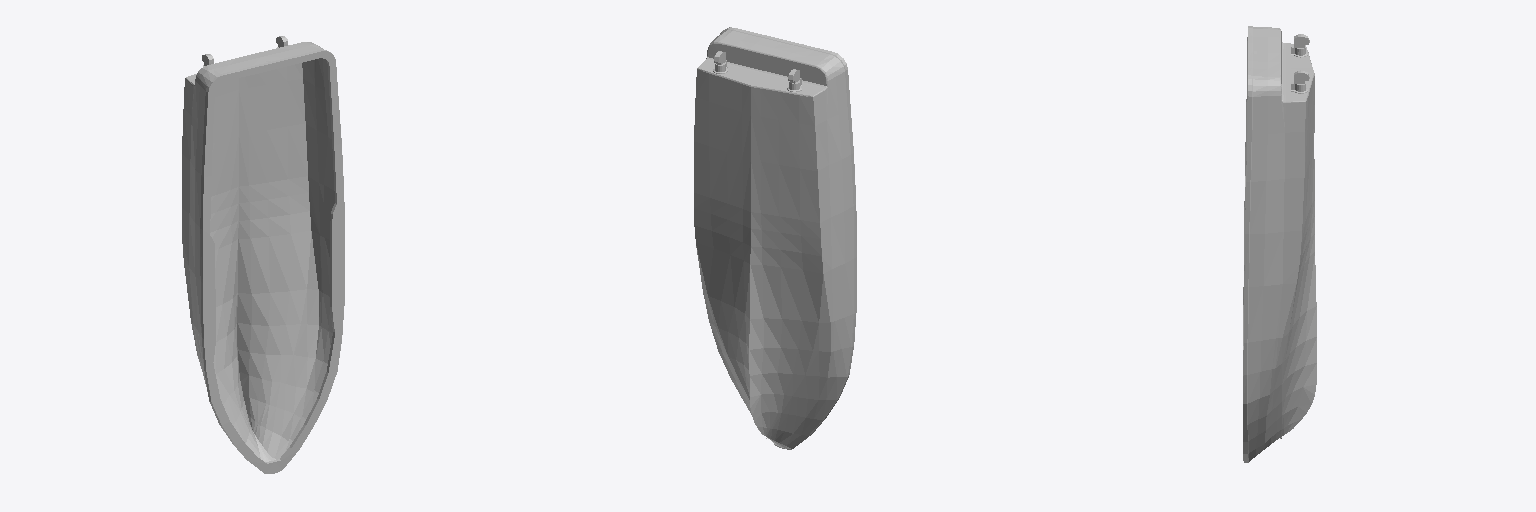
Rendered from pbr_hull.obj.
The picture shows the model from 3 angles: view 1: azimuth 30°, elevation 25°; view 2: azimuth 150°, elevation 25°; view 3: azimuth 270°, elevation 25°; orthographic projection.
Visible parts, largest first — view 1: boat_hi.006; view 2: boat_hi.006; view 3: boat_hi.006.
Part boxes in pixels (left/top/right/bottom): boat_hi.006: left=182, top=36, right=344, bottom=473; boat_hi.006: left=694, top=27, right=856, bottom=449; boat_hi.006: left=1243, top=26, right=1316, bottom=462.
Bounding box in the file's own units: 3.93 × 10.77 × 1.79.